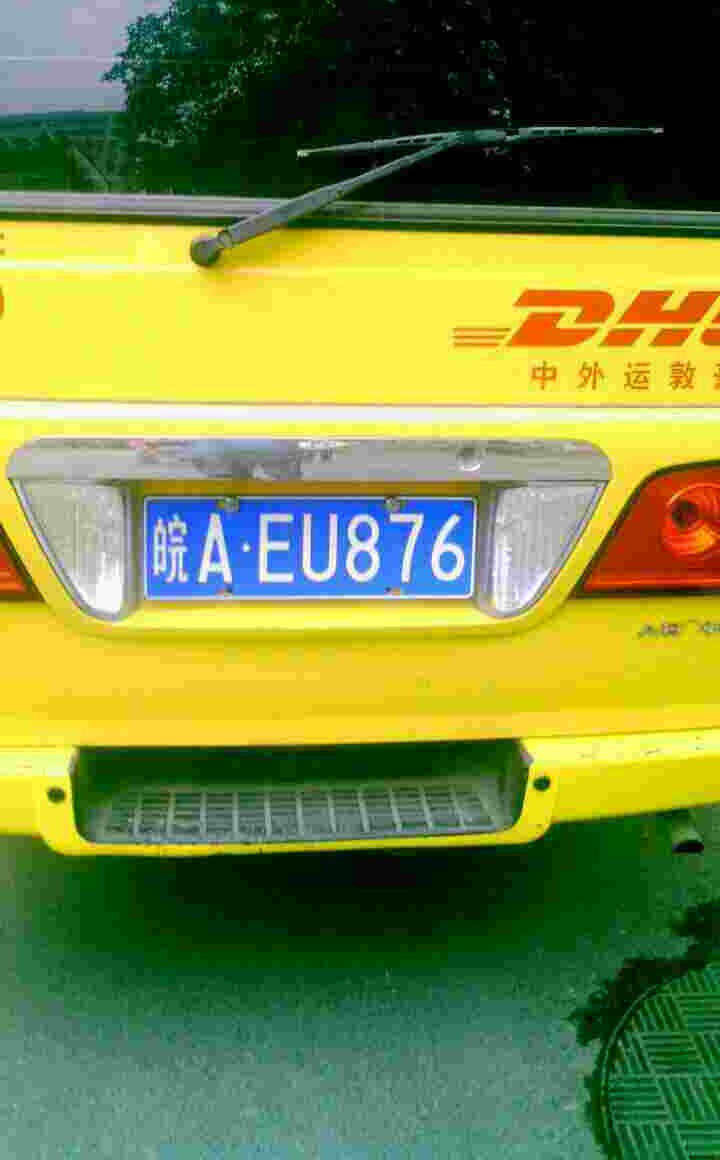license_plate: (143, 493, 470, 602)
